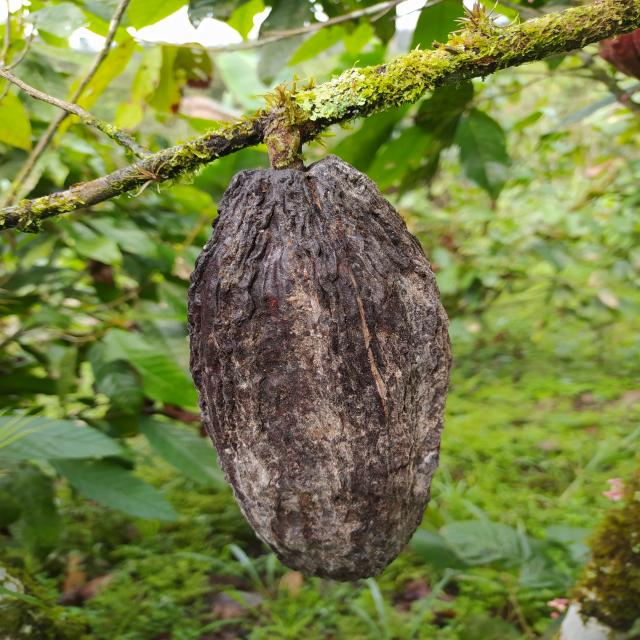Fitoftora: (184, 155, 455, 581)
